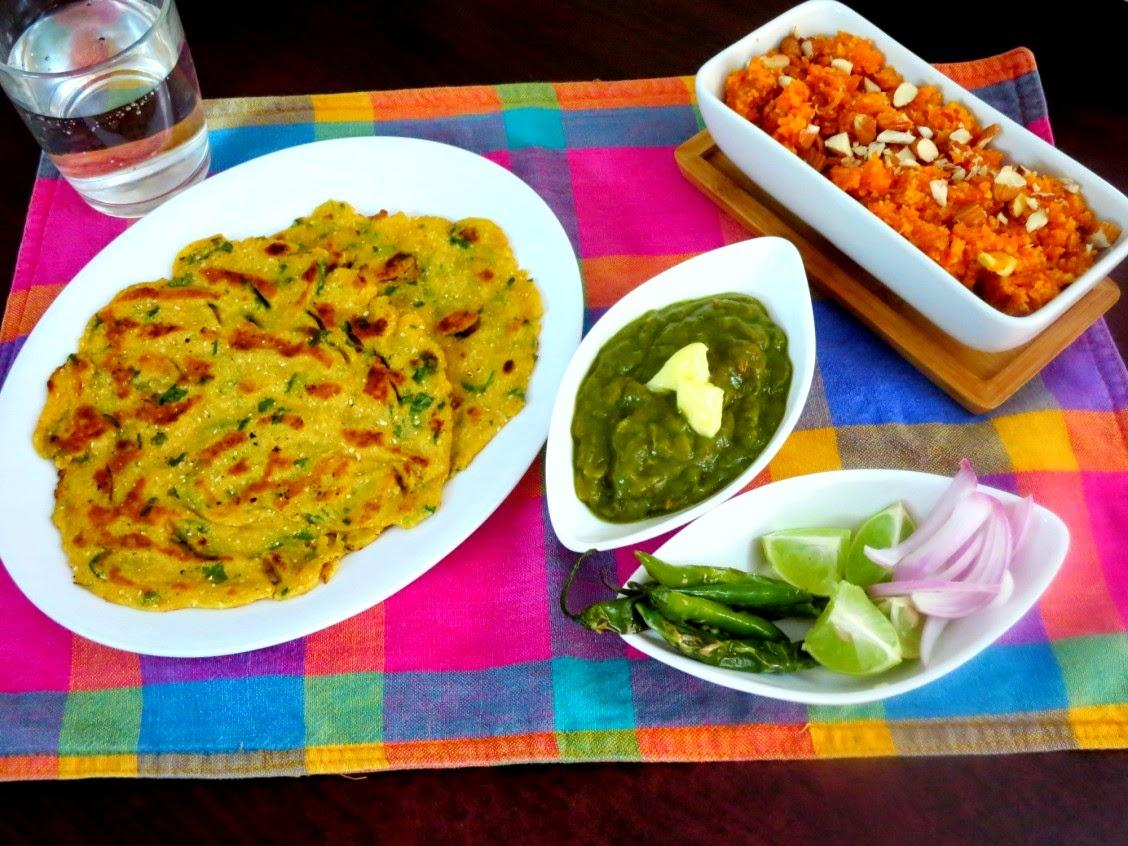saag: (597, 337, 793, 470)
